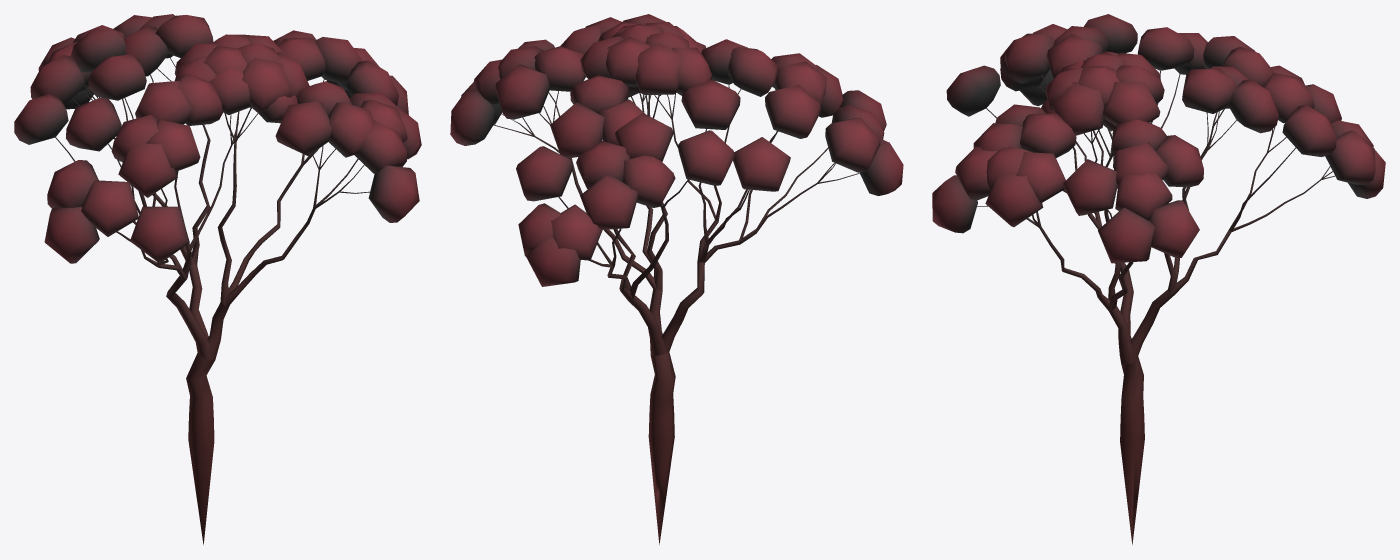
Rendered from plants-trees-palms-red-umbrella-tree_v4.fbx.
3 views of the same model, side by side, from view 1: azimuth 30°, elevation 25°; view 2: azimuth 150°, elevation 25°; view 3: azimuth 270°, elevation 25° (orthographic). The views are drawn at different scales.
Visible parts, largest first — view 1: Red Umbrella Tree_v4; view 2: Red Umbrella Tree_v4; view 3: Red Umbrella Tree_v4.
Part boxes in pixels (x1=…): Red Umbrella Tree_v4: x1=14, y1=14, x2=421, y2=544; Red Umbrella Tree_v4: x1=450, y1=14, x2=903, y2=544; Red Umbrella Tree_v4: x1=932, y1=14, x2=1385, y2=544.
Bounding box in the file's own units: 4.13 × 5 × 4.15.
